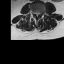CCS_normal: (36, 10, 37, 18)
LFS_severe_stenosis: (39, 10, 41, 15)
LLS_normal: (37, 11, 39, 16)
RFS_normal: (33, 10, 34, 15)
RLS_normal: (34, 11, 36, 16)
